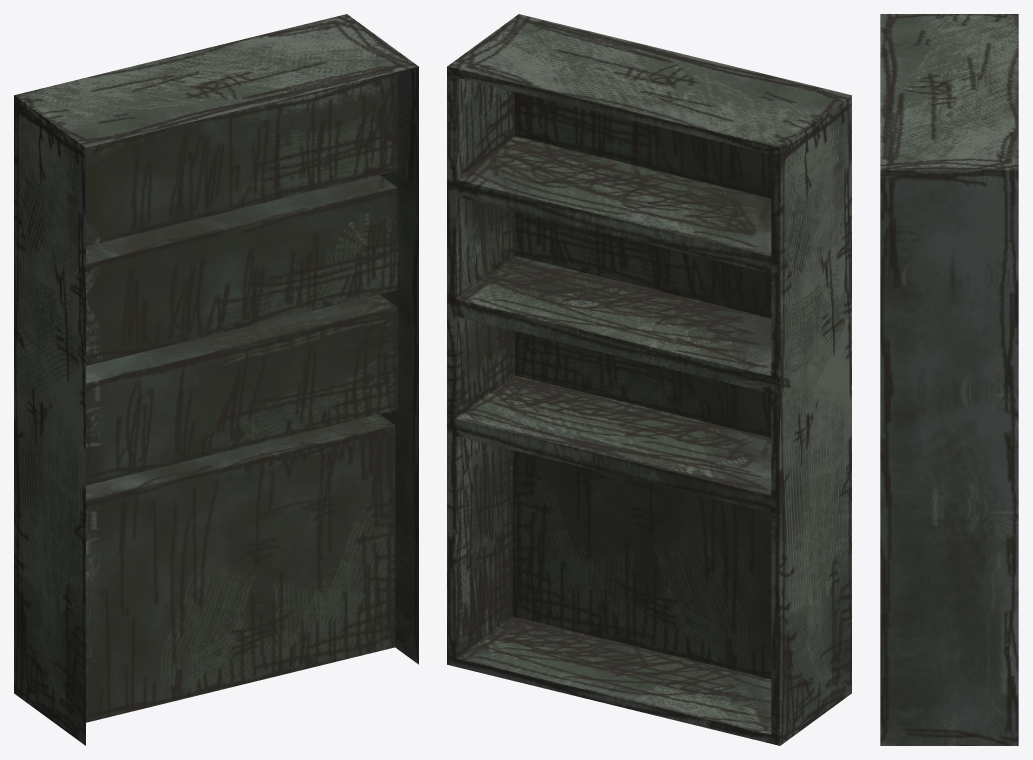
Rendered from bookcase.fbx.
3 views of the same model, side by side, from view 1: azimuth 30°, elevation 25°; view 2: azimuth 150°, elevation 25°; view 3: azimuth 270°, elevation 25° (orthographic). The views are drawn at different scales.
Visible parts, largest first — view 1: Window.003; view 2: Window.003; view 3: Window.003.
Part boxes in pixels (x1,y1,x2,y2): Window.003: (14,14,418,745); Window.003: (447,14,851,745); Window.003: (880,14,1018,745).
Bounding box in the file's own units: 114 × 197 × 42.73.
